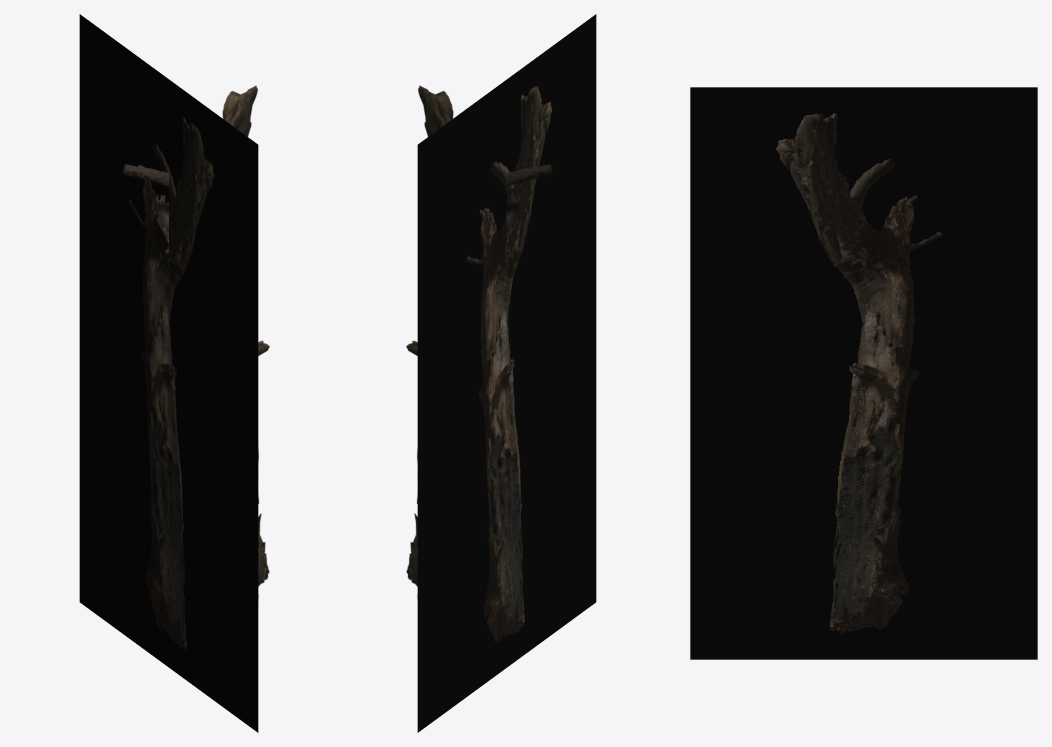
Rendered from swamp_dead_tree_far.glb.
3 views of the same model, side by side, from view 1: azimuth 30°, elevation 25°; view 2: azimuth 150°, elevation 25°; view 3: azimuth 270°, elevation 25° (orthographic). The views are drawn at different scales.
Visible parts, largest first — view 1: Tree card.001, Tree card; view 2: Tree card.001, Tree card; view 3: Tree card.001.
Boxes of the visible parts, box(x1,y1,x2,y2) form: Tree card.001: box(79, 14, 258, 732); Tree card: box(123, 85, 269, 597); Tree card.001: box(417, 14, 596, 732); Tree card: box(406, 85, 552, 597); Tree card.001: box(690, 87, 1037, 659).
Size of the model in its own units: 4.4 by 8 by 4.4.
Materials: 2 (2 with a texture image).
